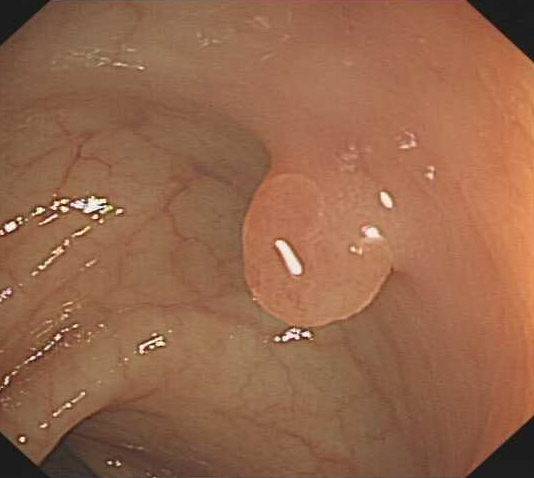adenoma: (241, 170, 396, 330)
